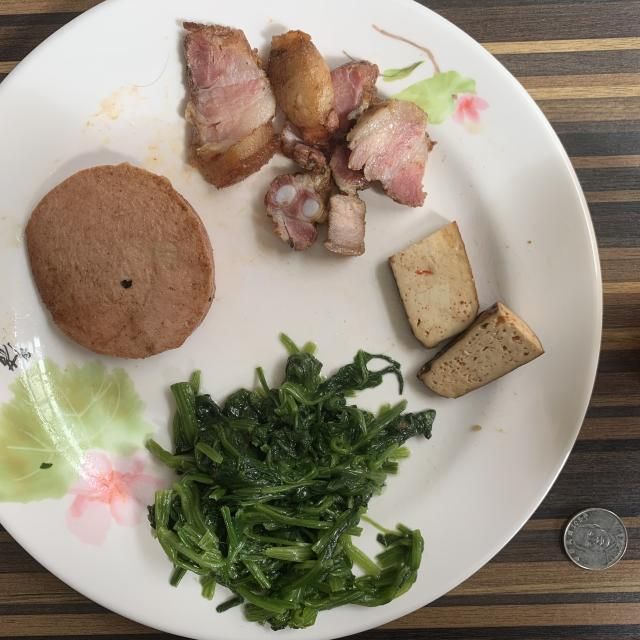Spam: (25, 162, 215, 359)
coin: (564, 508, 628, 570)
firm tofu: (389, 221, 544, 399)
grilled pork: (184, 22, 432, 255)
mustard greens: (146, 334, 435, 630)
